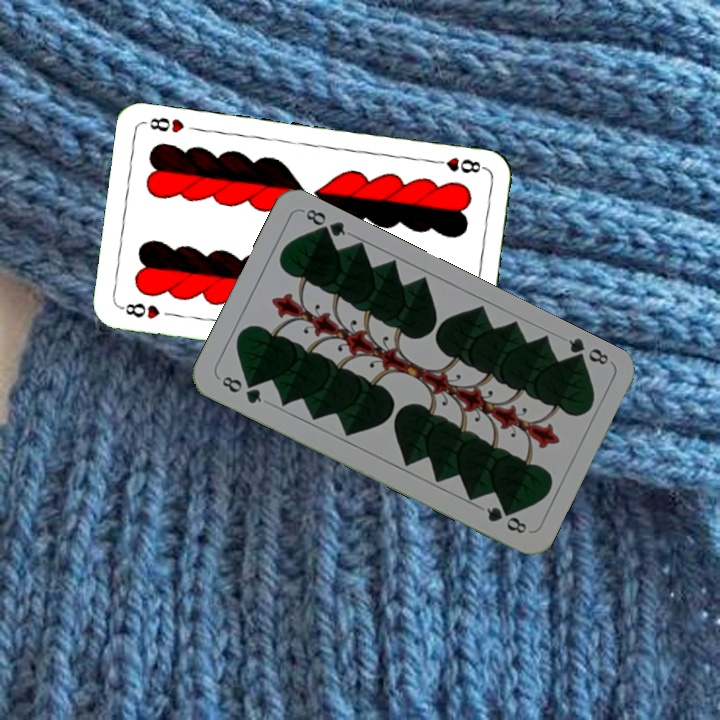G8: (564, 334, 612, 369), (217, 372, 265, 406)
H8: (428, 153, 488, 176), (117, 298, 163, 322)
